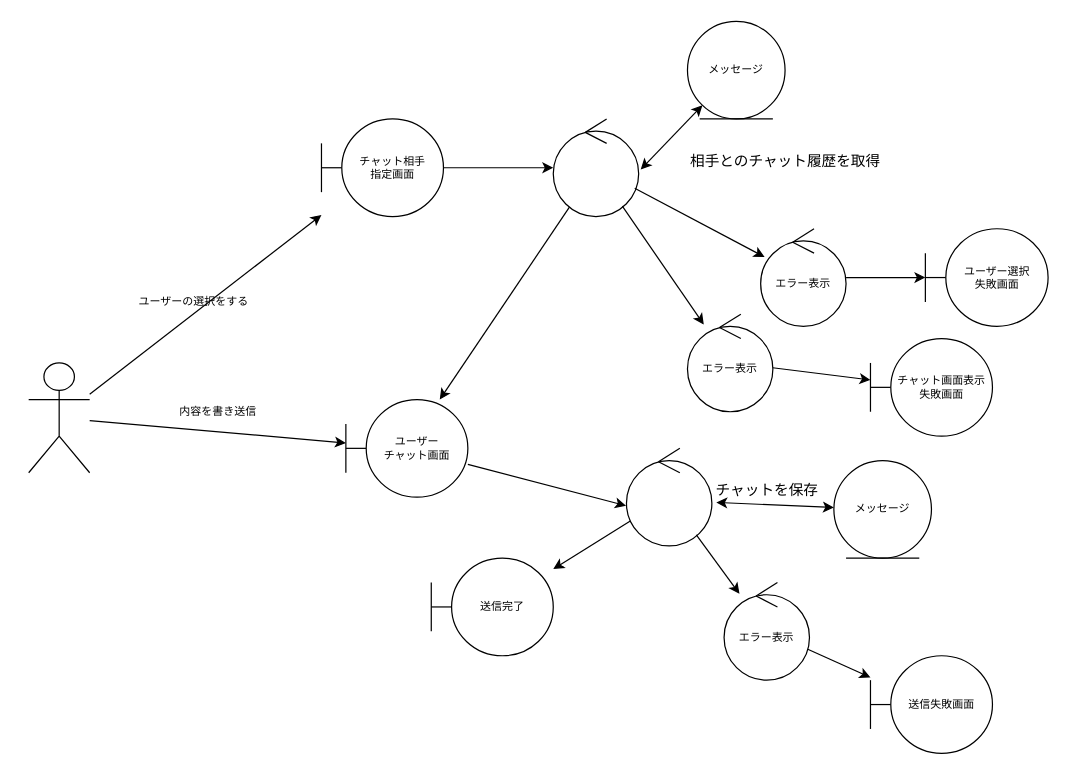
Some shapes in this 1070 by 775 pixel diagram are drawn without their labels. The shapes that lost their labels are listed below. From the top down, each one's centre as x and y in pixels, then its label:
the point at 595,167: チャット 履歴取得
the point at 58,417: システム管理者
the point at 668,496: 送信内容 書き込み表示
